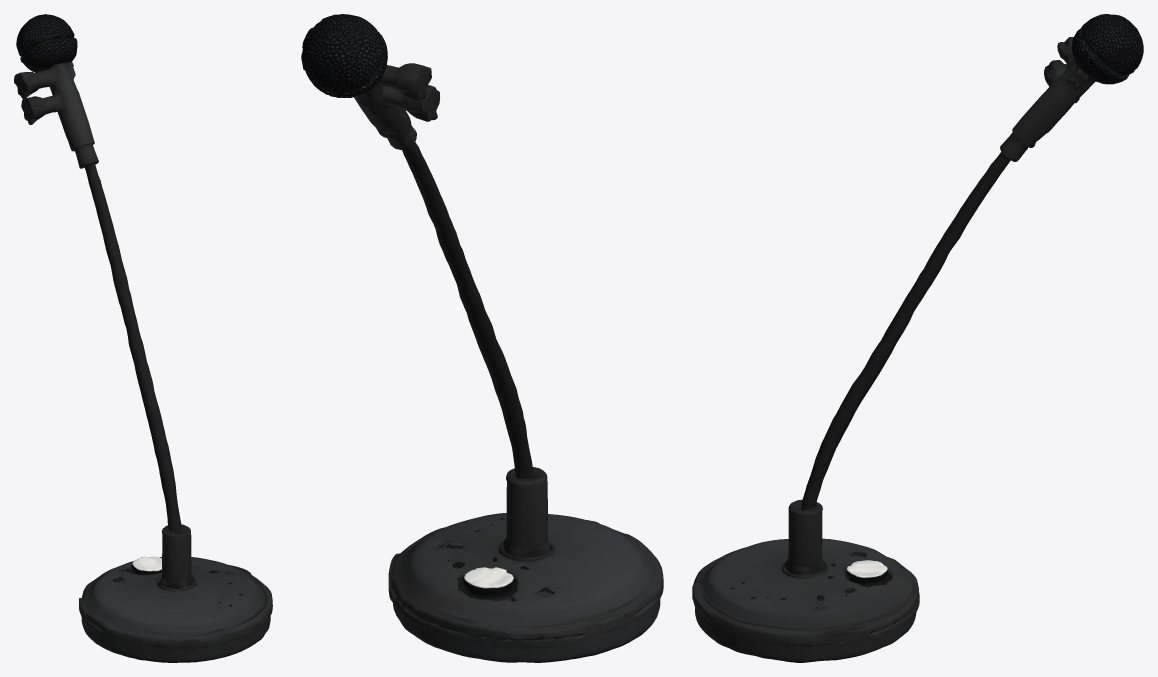
The model's file is microphone.glb.
3 views of the same model, side by side, from view 1: azimuth 30°, elevation 25°; view 2: azimuth 150°, elevation 25°; view 3: azimuth 270°, elevation 25° (orthographic). The views are drawn at different scales.
Visible parts, largest first — view 1: tripo_node_01a2180b-3a74-78ce-ad66-4bd774a5ce2a; view 2: tripo_node_01a2180b-3a74-78ce-ad66-4bd774a5ce2a; view 3: tripo_node_01a2180b-3a74-78ce-ad66-4bd774a5ce2a.
Boxes of the visible parts, x1,y1,x2,y2 form: tripo_node_01a2180b-3a74-78ce-ad66-4bd774a5ce2a: [14, 14, 272, 662]; tripo_node_01a2180b-3a74-78ce-ad66-4bd774a5ce2a: [301, 14, 663, 662]; tripo_node_01a2180b-3a74-78ce-ad66-4bd774a5ce2a: [692, 14, 1143, 662].
Bounding box in the file's own units: 0.3427 × 1 × 0.6802.
1 material, 1 textured.
